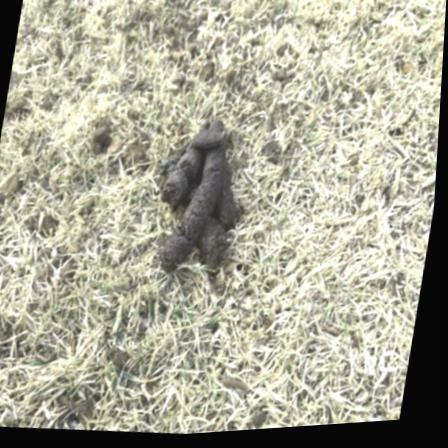dog-poop: (150, 111, 260, 294)
